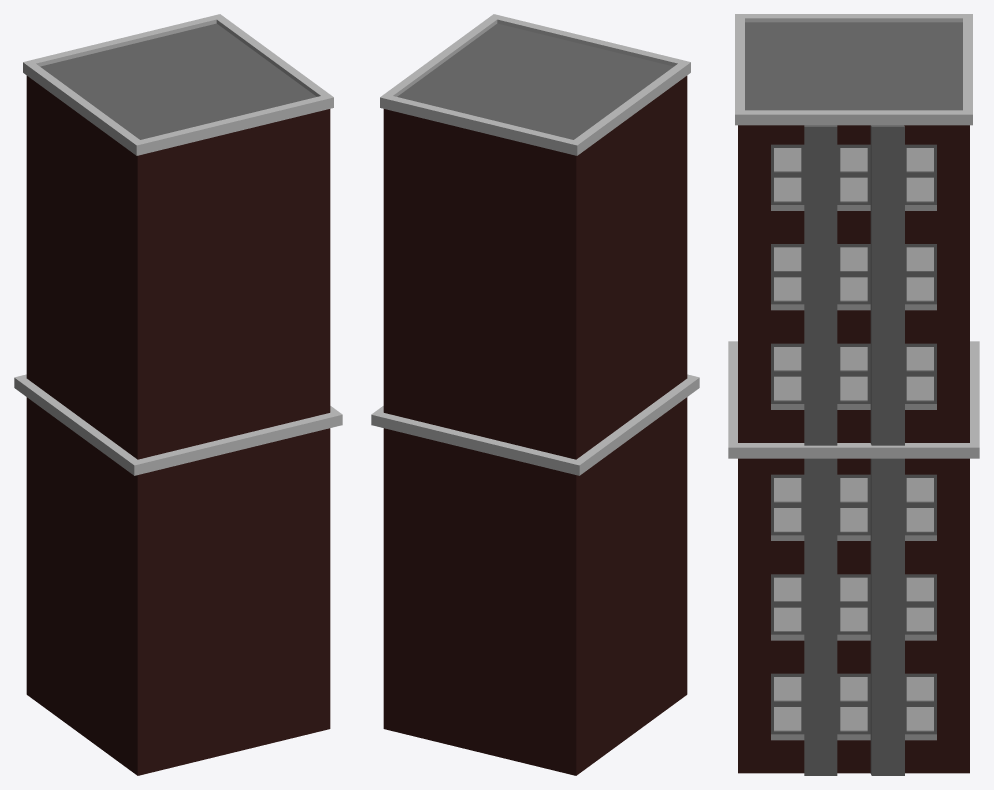
Rendered from Building1.fbx.
The picture shows the model from 3 angles, left to right: view 1: azimuth 30°, elevation 25°; view 2: azimuth 150°, elevation 25°; view 3: azimuth 270°, elevation 25°; orthographic projection. The views are drawn at different scales.
Visible parts, largest first — view 1: Cube.002; view 2: Cube.002; view 3: Cube.002.
Part boxes in pixels (<box>): Cube.002: <box>14,14,342,775</box>; Cube.002: <box>371,14,699,775</box>; Cube.002: <box>728,14,979,775</box>.
Bounding box in the file's own units: 146 × 423 × 146.
